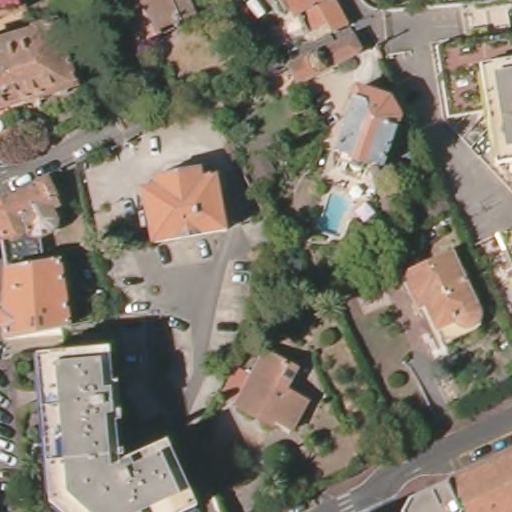pool: (321, 189, 352, 238)
